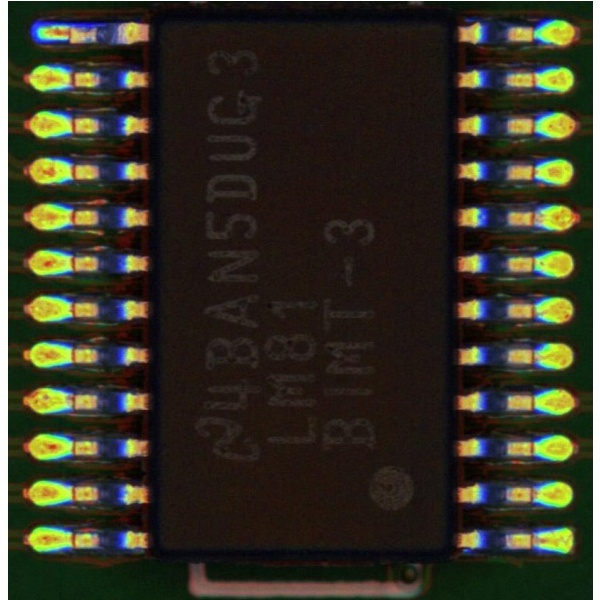Bad_podu: (52, 256, 84, 268), (56, 394, 86, 406), (56, 208, 83, 221), (520, 534, 547, 545), (55, 27, 80, 38)
